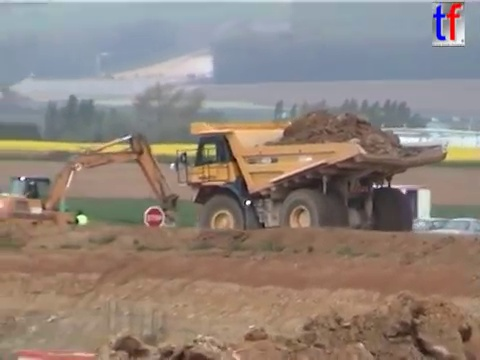excavator: (1, 130, 184, 243)
truck: (168, 118, 449, 251)
worker: (65, 208, 90, 241)
